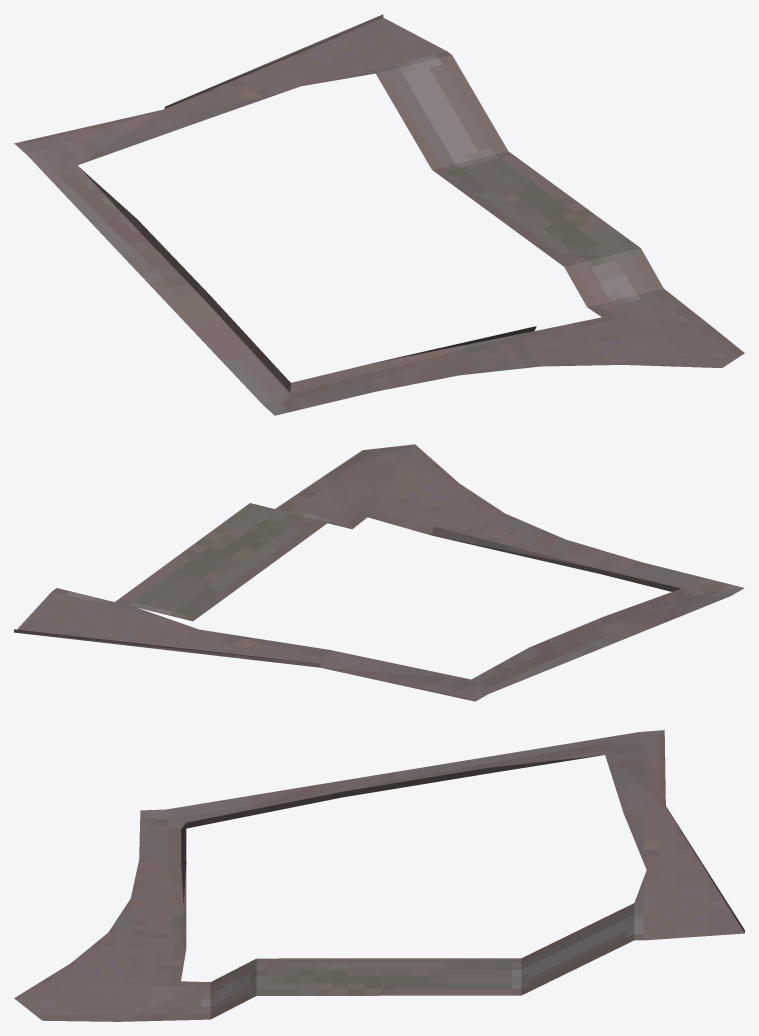
The model's file is lodlan2shit05.obj.
3 renders of one model, top to bottom at view 1: azimuth 30°, elevation 25°; view 2: azimuth 150°, elevation 25°; view 3: azimuth 270°, elevation 25°, orthographic. The views are drawn at different scales.
Visible parts, largest first — view 1: LODlan2shit05; view 2: LODlan2shit05; view 3: LODlan2shit05.
Boxes of the visible parts, x1,y1,x2,y2 form: LODlan2shit05: (14, 14, 744, 415); LODlan2shit05: (14, 444, 744, 701); LODlan2shit05: (14, 730, 744, 1021).
Size of the model in its own units: 56.15 by 10.75 by 83.66.
1 material, 1 textured.
